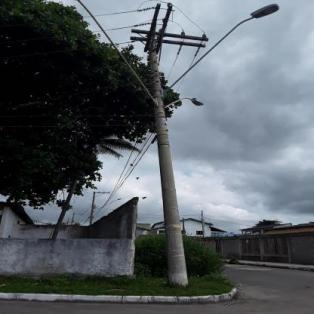Poste: (142, 27, 210, 296)
